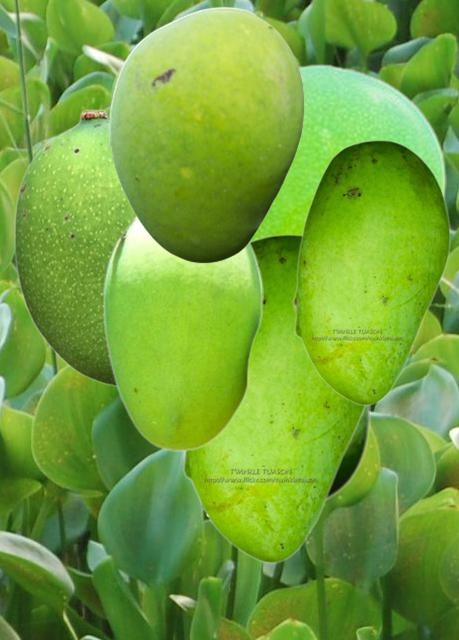green_mango: (182, 233, 366, 563), (108, 6, 303, 262), (292, 139, 450, 405), (102, 214, 262, 450), (13, 108, 134, 387), (253, 63, 445, 238), (326, 406, 369, 503)
